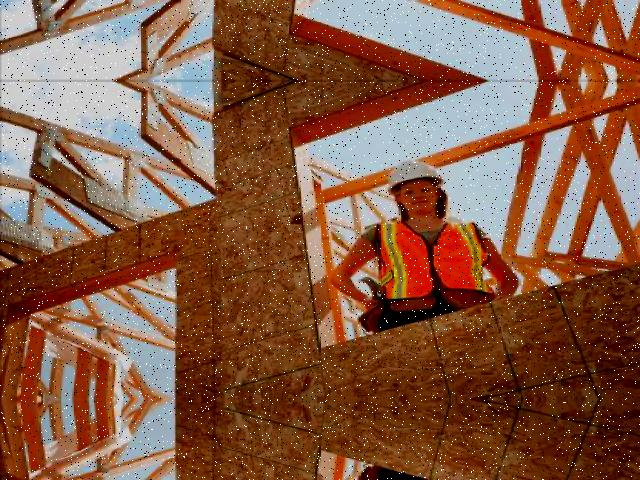Helmet: (382, 156, 448, 203)
